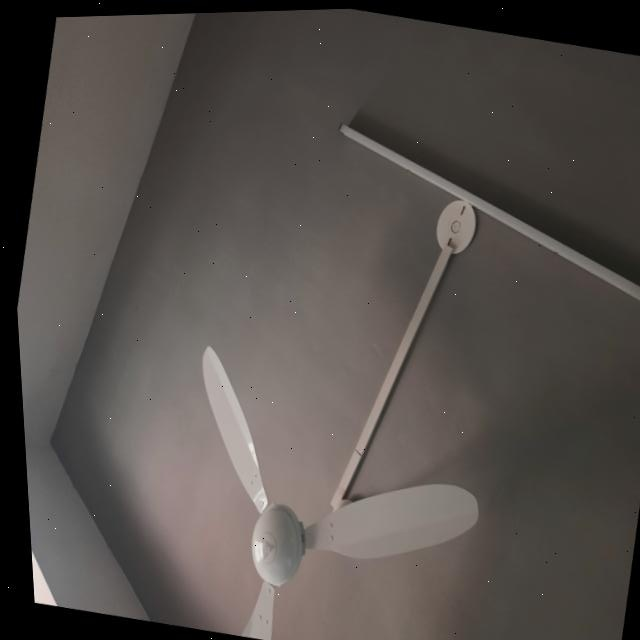fluorescent tube: (304, 105, 640, 319)
